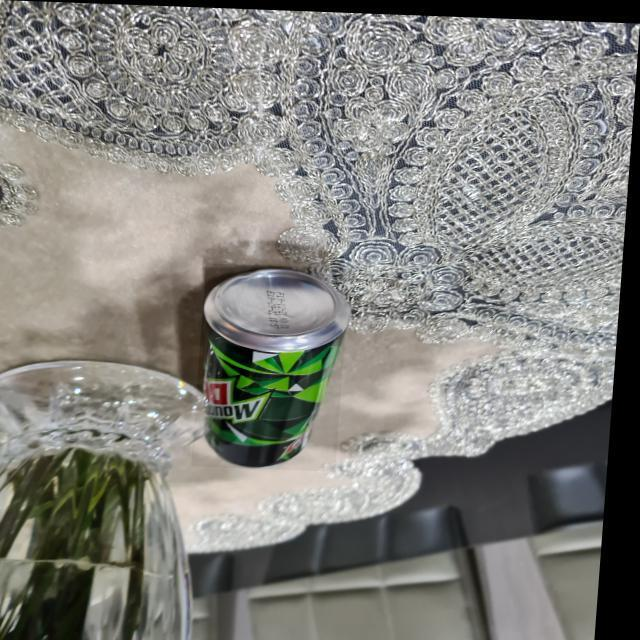trash: (202, 261, 346, 474)
